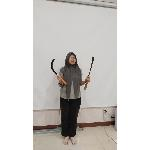Celurit: (49, 57, 67, 87)
Golok: (81, 54, 98, 92)
